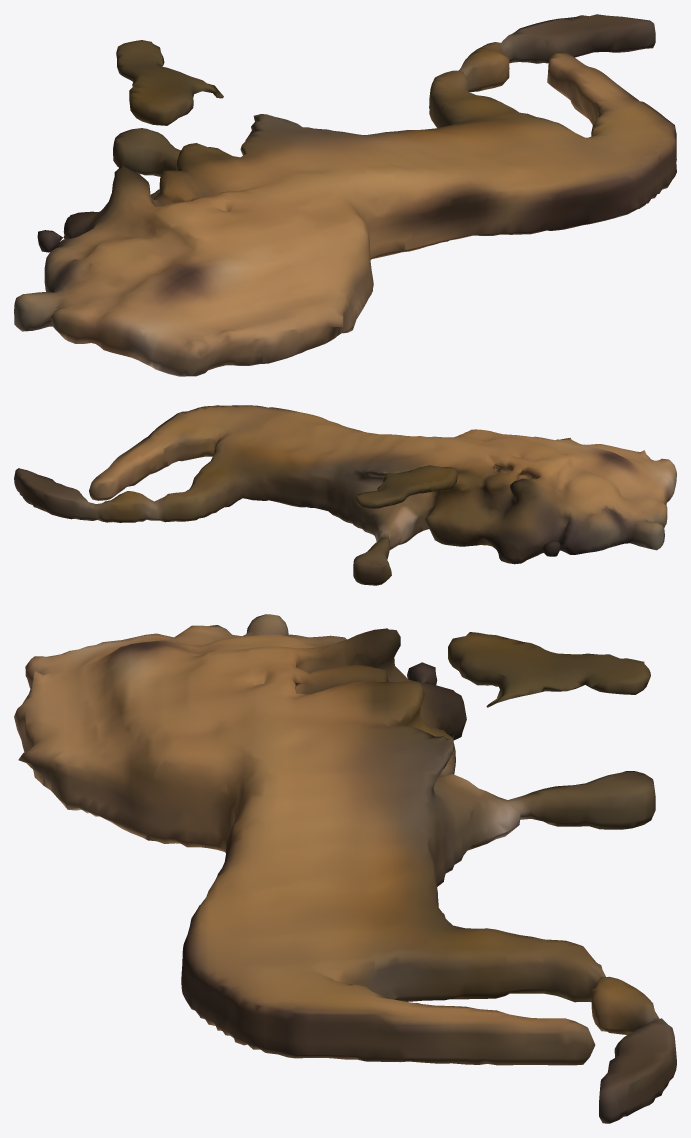
Rendered from lion.glb.
The picture shows the model from 3 angles, top to bottom: view 1: azimuth 30°, elevation 25°; view 2: azimuth 150°, elevation 25°; view 3: azimuth 270°, elevation 25°; orthographic projection. The views are drawn at different scales.
Size of the model in its own units: 0.9996 by 0.1488 by 0.5958.
